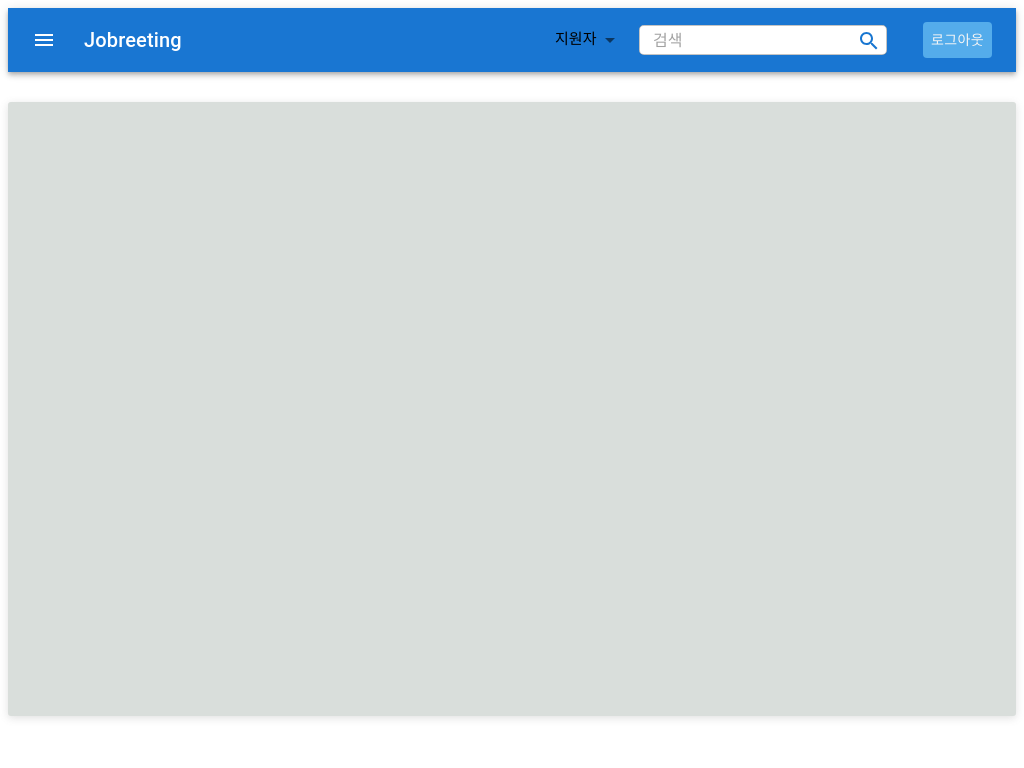
Test: 라우팅 메뉴 테스트 › 메뉴버튼 클릭 시 메뉴 모달이 정상적으로 등장하는지 테스트
Click the button named "menu" at x=44, y=40, box left=20, top=16, right=68, bottom=64
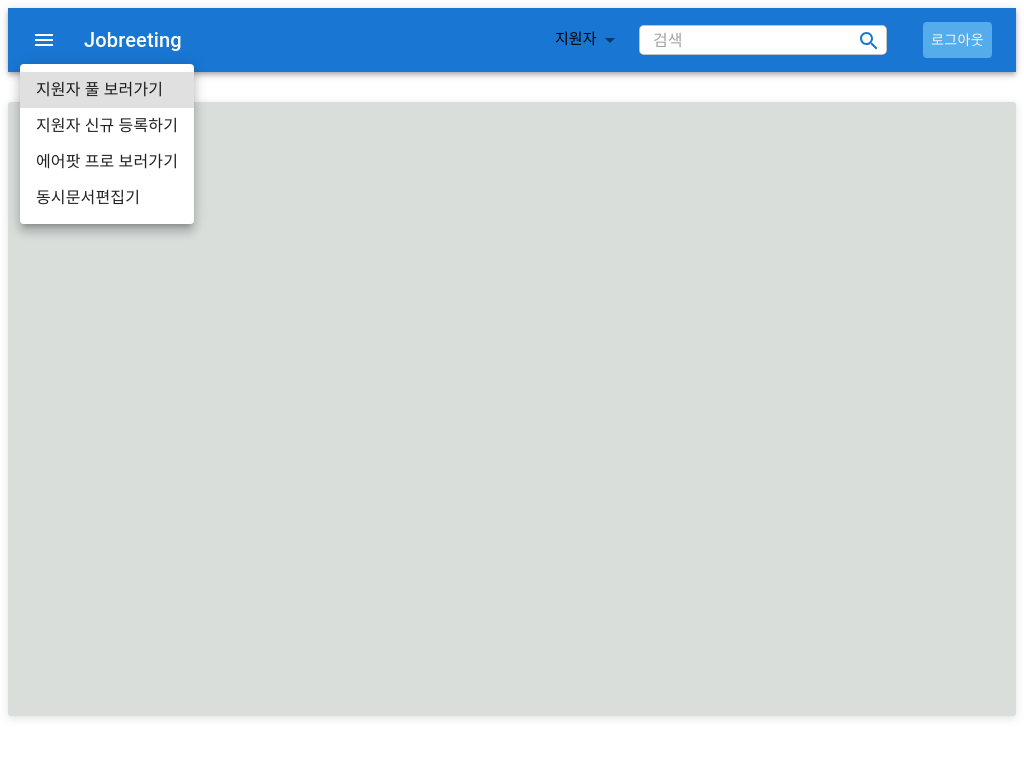
Check: the number of menu items "지원자 풀 보러가기" is 1, box left=20, top=72, right=194, bottom=108
Check: the number of menu items "지원자 신규 등록하기" is 1, box left=36, top=116, right=178, bottom=135
